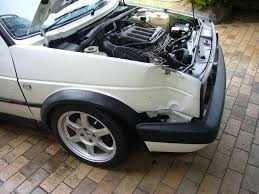Dent: (139, 71, 195, 124)
Smashed: (52, 3, 215, 78)
